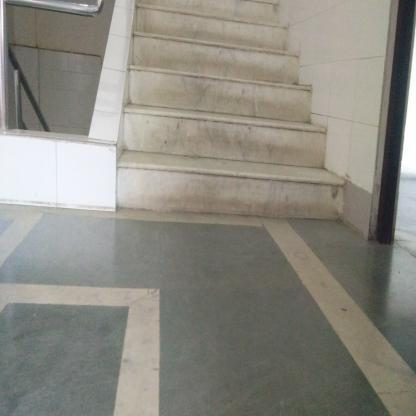stairs: (134, 10, 278, 224)
